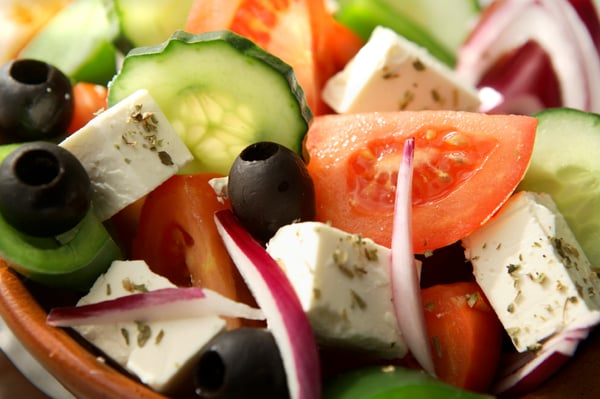steak: (106, 33, 311, 175)
taco: (302, 110, 538, 257)
